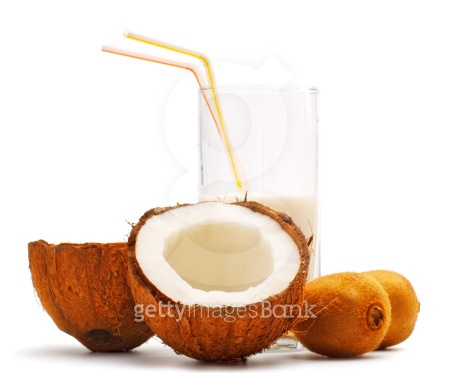glass of milk: (172, 52, 338, 303)
